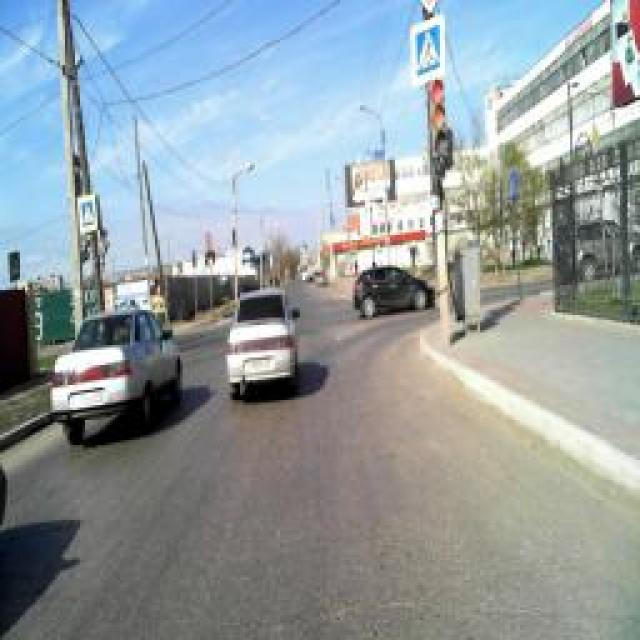sign: (589, 120, 601, 155)
